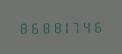eight: (17, 20, 27, 34), (39, 20, 49, 34), (50, 20, 60, 34)
four: (83, 19, 93, 33)
one: (61, 19, 71, 33)
seven: (72, 19, 82, 33)
six: (28, 20, 38, 34), (94, 19, 104, 33)
